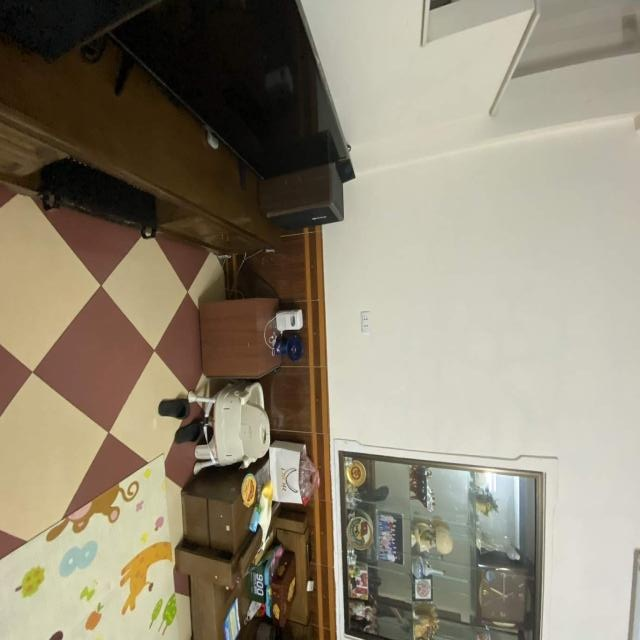outlet: (360, 311, 371, 333)
